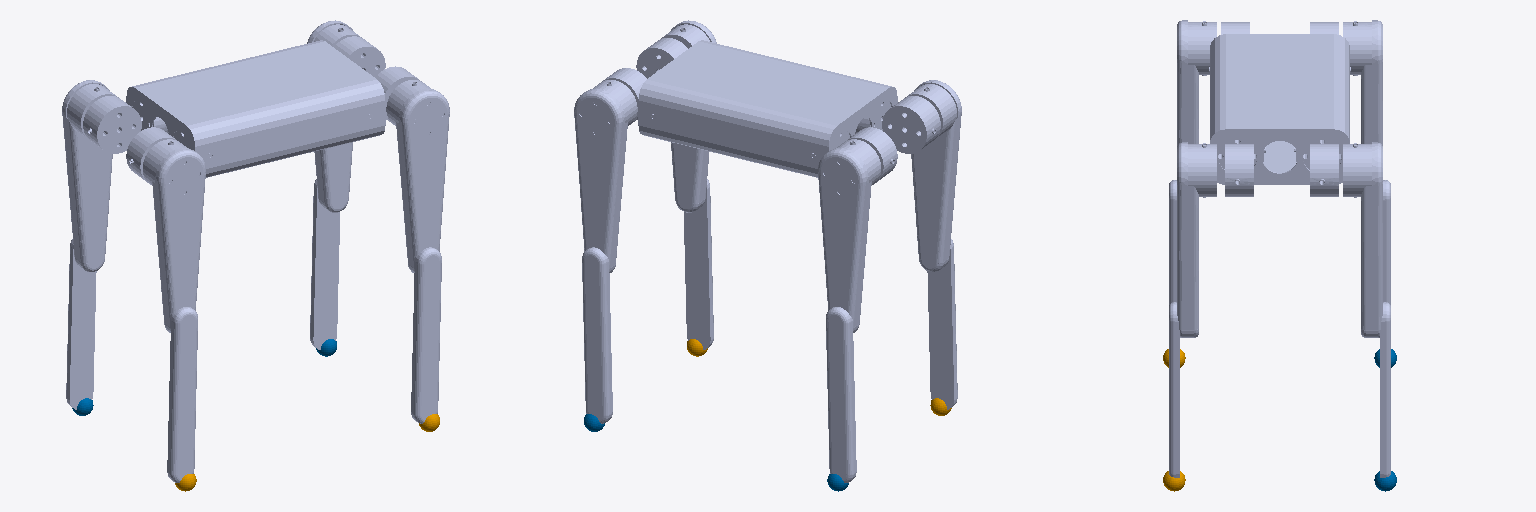
The robot description file, URDF, robot "stoch3_urdf":
<?xml version="1.0" encoding="utf-8"?>
<!-- This URDF was automatically created by SolidWorks to URDF Exporter! Originally created by [author] ([email redacted]) 
     Commit Version: 1.5.1-0-g916b5db  Build Version: 1.5.7152.31018
     For more information, please see http://wiki.ros.org/sw_urdf_exporter -->
<robot
  name="stoch3_urdf">
  <link
    name="base_link">
    <inertial>
      <origin
        xyz="0 0 0"
        rpy="0 0 0" />
      <mass
        value="3.95" />
      <inertia
        ixx="0.0082534"
        ixy="0"
        ixz="0"
        iyy="0.01565"
        iyz="0"
        izz="0.020188" />
    </inertial>
    <visual>
      <origin
        xyz="0 0 0"
        rpy="0 0 0" />
      <geometry>
        <mesh
          filename="../meshes/base_link.STL" />
      </geometry>
      <material
        name="">
        <color
          rgba="0.79216 0.81961 0.93333 1" />
      </material>
    </visual>
    <collision>
      <origin
        xyz="0 0 0"
        rpy="0 0 0" />
      <geometry>
         <box size="0.4 0.21 0.1"/>
      </geometry>
    </collision>
  </link>
  <link
    name="FLA_link">
    <inertial>
      <origin
        xyz="0.38527 0.0017672 0"
        rpy="0 0 0" />
      <mass
        value="1.742" />
      <inertia
        ixx="0.00063635"
        ixy="0"
        ixz="0"
        iyy="0.0018117"
        iyz="0"
        izz="0.0016957" />
    </inertial>
    <visual>
      <origin
        xyz="0 0 0"
        rpy="0 0 0" />
      <geometry>
        <mesh
          filename="../meshes/FLA_link.STL" />
      </geometry>
      <material
        name="">
        <color
          rgba="0.79216 0.81961 0.93333 1" />
      </material>
    </visual>
    <collision>
      <origin
        xyz="0.425 0.025 0"
        rpy="1.532 0 0" />
      <geometry>
        <cylinder length="0.1" radius="0.044"/>      
      </geometry>
    </collision>
  </link>
  <joint
    name="FLA_joint"
    type="revolute">
    <origin
      xyz="-0.1715 0.075 0"
      rpy="0 0 0" />
    <parent
      link="base_link" />
    <child
      link="FLA_link" />
    <axis
      xyz="1 0 0" />
    <limit
      lower="0"
      upper="0"
      effort="0"
      velocity="0" />
  </joint>
  <link
    name="FLH_link">
    <inertial>
      <origin
        xyz="-0.026428 0.0081065 -0.031643"
        rpy="0 0 0" />
      <mass
        value="0.125" /> <!-- IT IS ACTUALLY 1.561-->
      <inertia
        ixx="0.0023398"
        ixy="0.00021328"
        ixz="-0.001565"
        iyy="0.0037523"
        iyz="0.00025536"
        izz="0.001773" />
    </inertial>
    <visual>
      <origin
        xyz="0 0 0"
        rpy="0 -0.7 0" />
      <geometry>
        <mesh
          filename="../meshes/FLH_link.STL" />
      </geometry>
      <material
        name="">
        <color
          rgba="0.79216 0.81961 0.93333 1" />
      </material>
    </visual>
    <collision>
      <origin
        xyz="0.0 0.04 -0.125"
        rpy="0 0 0" />
      <geometry>
        <capsule length="0.27" radius="0.03"/>
      </geometry>
    </collision>
  </link>
  <joint
    name="FLH_joint"
    type="continuous">
    <origin
      xyz="0.4275 0.0625 0"
      rpy="0 0 0" />
    <parent
      link="FLA_link" />
    <child
      link="FLH_link" />
    <axis
      xyz="0 -1 0" />
  </joint>
  <link
    name="FLK_link">
    <inertial>
      <origin
        xyz="0.093564 -0.0003826 -0.11724"
        rpy="0 0 0" />
      <mass
        value="0.125" />
      <inertia
        ixx="0.0019186"
        ixy="0"
        ixz="0.0014742"
        iyy="0.0031459"
        iyz="0"
        izz="0.0012478" />
    </inertial>
    <visual>
      <origin
        xyz="0. 0 -0."
        rpy="0 0.7 0" />
      <geometry>
        <mesh
          filename="../meshes/FLK_link.STL" />
      </geometry>
      <material
        name="">
        <color
          rgba="0.79216 0.81961 0.93333 1" />
      </material>
    </visual>
    <collision>
      <origin
        xyz="0. 0. -0.165"
        rpy="0 0 0" />
      <geometry>
        <capsule length="0.27" radius="0.03"/>
      </geometry>
    </collision>
  </link>
  <joint
    name="FLK_joint"
    type="continuous">
    <origin
      xyz="-0. 0.05 -0.285"
      rpy="0 0 0" />
    <parent
      link="FLH_link" />
    <child
      link="FLK_link" />
    <axis
      xyz="0 -1 0" />
  </joint>
  <link name="FLF_link">
    <visual>
        <origin xyz="0.0 0.0 0.0"/>
        <geometry>
            <sphere radius="0.02"/>
        </geometry>
    </visual>
    <collision>
        <origin xyz="0. 0.0 0.0"/>
        <geometry>
            <sphere radius="0.0"/>
        </geometry>
    </collision>
  </link>
  <joint name="FLF_joint" type="fixed">
        <parent link="FLK_link"/>
        <child link="FLF_link"/>
        <origin rpy="0.0 0.0 0.0" xyz="0.0 0.0 -0.32125"/>
  </joint>
   <link
    name="FRA_link">
    <inertial>
      <origin
        xyz="0.042267 -0.0017671 0.0"
        rpy="0 0 0" />
      <mass
        value="1.742" />
      <inertia
        ixx="0.00063635"
        ixy="0"
        ixz="0"
        iyy="0.0018117"
        iyz="0"
        izz="0.0016957" />
    </inertial>
    <visual>
      <origin
        xyz="0 0.0 0"
        rpy="0 0 0" />
      <geometry>
        <mesh
          filename="../meshes/FLA_link.STL" />
      </geometry>
      <material
        name="">
        <color
          rgba="0.79216 0.81961 0.93333 1" />
      </material>
    </visual>
    <collision>
      <origin
        xyz="0.425 -0.025 0"
        rpy="1.532 0 0" />
      <geometry>
        <cylinder length="0.1" radius="0.044"/>      
      </geometry>
    </collision>
  </link>
  <joint
    name="FRA_joint"
    type="revolute">
    <origin
      xyz="-0.1715 -0.075 0"
      rpy="0 0 0" />
    <parent
      link="base_link" />
    <child
      link="FRA_link" />
    <axis
      xyz="-1 0 0" />
    <limit
      lower="0"
      upper="0"
      effort="0"
      velocity="0" />
  </joint>
  <link
    name="FRH_link">
    <inertial>
      <origin
        xyz="-0.026429 -0.0081065 -0.031643"
        rpy="0 0 0" />
      <mass
        value="0.125" /><!-- IT IS ACTUALLY 1.561-->
      <inertia
        ixx="0.0023397"
        ixy="-0.00021327"
        ixz="-0.001565"
        iyy="0.0037523"
        iyz="-0.00025536"
        izz="0.0017731" />
    </inertial>
    <visual>
      <origin
        xyz="0 0 0"
        rpy="0 -0.7 0" />
      <geometry>
        <mesh
          filename="../meshes/FRH_link.STL" />
      </geometry>
      <material
        name="">
        <color
          rgba="0.79216 0.81961 0.93333 1" />
      </material>
    </visual>
    <collision>
      <origin
        xyz="0.0 -0.04 -0.125"
        rpy="0 0 0" />
      <geometry>
        <capsule length="0.27" radius="0.03"/>
      </geometry>
    </collision>
  </link>
  <joint
    name="FRH_joint"
    type="continuous">
    <origin
      xyz="0.4275 -0.0625 0"
      rpy="0 0 0" />
    <parent
      link="FRA_link" />
    <child
      link="FRH_link" />
    <axis
      xyz="0 -1 0" />
  </joint>
  <link
    name="FRK_link">
    <inertial>
      <origin
        xyz="0.093565 0.0003826 -0.11724"
        rpy="0 0 0" />
      <mass
        value="0.125" />
      <inertia
        ixx="0.0019186"
        ixy="0"
        ixz="0.0014742"
        iyy="0.0031459"
        iyz="0"
        izz="0.0012478" />
    </inertial>
    <visual>
      <origin
        xyz="0 0 0"
        rpy="0 0.7 0" />
      <geometry>
        <mesh
          filename="../meshes/FRK_link.STL" />
      </geometry>
      <material
        name="">
        <color
          rgba="0.79216 0.81961 0.93333 1" />
      </material>
    </visual>
    <collision>
      <origin
        xyz="0. 0. -0.165"
        rpy="0 0 0" />
      <geometry>
        <capsule length="0.27" radius="0.03"/>
      </geometry>
    </collision>
  </link>
  <joint
    name="FRK_joint"
    type="continuous">
    <origin
      xyz="-0. -0.05 -0.285"
      rpy="0 0 0" />
    <parent
      link="FRH_link" />
    <child
      link="FRK_link" />
    <axis
      xyz="0 -1 0" />
  </joint>
  <link name="FRF_link">
    <visual>
        <origin xyz="0.0 0.0 0.0"/>
        <geometry>
            <sphere radius="0.02"/>
        </geometry>
    </visual>
  </link>
  <joint name="FRF_joint" type="fixed">
        <parent link="FRK_link"/>
        <child link="FRF_link"/>
        <origin rpy="0.0 0.0 0.0" xyz="0.0 0.0 -0.32125"/>
  </joint>
  <link
    name="BLA_link">
    <inertial>
      <origin
        xyz="-0.042267 0.0017671 0"
        rpy="0 0 0" />
      <mass
        value="1.742" />
      <inertia
        ixx="0.00063635"
        ixy="0"
        ixz="0"
        iyy="0.0018117"
        iyz="0"
        izz="0.0016957" />
    </inertial>
    <visual>
      <origin
        xyz="0 0 0"
        rpy="0 0 0" />
      <geometry>
        <mesh
          filename="../meshes/BLA_link.STL" />
      </geometry>
      <material
        name="">
        <color
          rgba="0.79216 0.81961 0.93333 1" />
      </material>
    </visual>
    <collision>
      <origin
        xyz="-0.085 0.025 0"
        rpy="1.532 0 0" />
      <geometry>
        <cylinder length="0.1" radius="0.044"/>      
      </geometry>
    </collision>
  </link>
  <joint
    name="BLA_joint"
    type="revolute">
    <origin
      xyz="-0.1715 0.075 0"
      rpy="0 0 0" />
    <parent
      link="base_link" />
    <child
      link="BLA_link" />
    <axis
      xyz="1 0 0" />
    <limit
      lower="0"
      upper="0"
      effort="0"
      velocity="0" />
  </joint>

  <link
    name="BLH_link">
    <inertial>
      <origin
        xyz="-0.026428 0.0081065 -0.031643"
        rpy="0 0 0" />
      <mass
        value="0.125" /><!-- IT IS ACTUALLY 1.561-->
      <inertia
        ixx="0.0023398"
        ixy="0.00021328"
        ixz="-0.001565"
        iyy="0.0037523"
        iyz="0.00025536"
        izz="0.001773" />
    </inertial>
    <visual>
      <origin
        xyz="0 0 0"
        rpy="0 -0.7 0" />
      <geometry>
        <mesh
          filename="../meshes/BLH_link.STL" />
      </geometry>
      <material
        name="">
        <color
          rgba="0.79216 0.81961 0.93333 1" />
      </material>
    </visual>
   <collision>
      <origin
        xyz="0.0 0.04 -0.125"
        rpy="0 0 0" />
      <geometry>
        <capsule length="0.27" radius="0.03"/>
      </geometry>
    </collision>
  </link>
  <joint
    name="BLH_joint"
    type="continuous">
    <origin
      xyz="-0.0845 0.0625 0"
      rpy="0 0 0" />
    <parent
      link="BLA_link" />
    <child
      link="BLH_link" />
    <axis
      xyz="0 -1 0" />
  </joint>

  <link
    name="BLK_link">
    <inertial>
      <origin
        xyz="0.093564 -0.0003826 -0.11724"
        rpy="0 0 0" />
      <mass
        value="0.125" />
      <inertia
        ixx="0.0019186"
        ixy="0.0"
        ixz="0.0014742"
        iyy="0.0031459"
        iyz="0.0"
        izz="0.0012478" />
    </inertial>
    <visual>
      <origin
        xyz="0 0 0"
        rpy="0 0.7 0" />
      <geometry>
        <mesh
          filename="../meshes/BLK_link.STL" />
      </geometry>
      <material
        name="">
        <color
          rgba="0.79216 0.81961 0.93333 1" />
      </material>
    </visual>
    <collision>
      <origin
        xyz="0. 0. -0.165"
        rpy="0 0 0" />
      <geometry>
        <capsule length="0.27" radius="0.03"/>
      </geometry>
    </collision>
  </link>
  <joint
    name="BLK_joint"
    type="continuous">
    <origin
      xyz="-0. 0.05 -0.285"
      rpy="0 0 0" />
    <parent
      link="BLH_link" />
    <child
      link="BLK_link" />
    <axis
      xyz="0 -1 0" />
  </joint>
  <link name="BLF_link">
    <visual>
        <origin xyz="0.0 0.0 0.0"/>
        <geometry>
            <sphere radius="0.02"/>
        </geometry>
    </visual>
    <collision>
        <origin xyz="0. 0.0 0.0"/>
        <geometry>
            <sphere radius="0.0"/>
        </geometry>
    </collision>
  </link>
  <joint name="BLF_joint" type="fixed">
        <parent link="BLK_link"/>
        <child link="BLF_link"/>
        <origin rpy="0.0 0.0 0.0" xyz="0.0 0.0 -0.32125"/>
  </joint>
  <link
    name="BRA_link">
    <inertial>
      <origin
        xyz="-0.042267 -0.0017672 0.0"
        rpy="0 0 0" />
      <mass
        value="1.742" />
      <inertia
        ixx="0.00063635"
        ixy="0.0"
        ixz="0.0"
        iyy="0.0018117"
        iyz="0.0"
        izz="0.0016957" />
    </inertial>
    <visual>
      <origin
        xyz="0 0 0"
        rpy="0 0 0" />
      <geometry>
        <mesh
          filename="../meshes/BRA_link.STL" />
      </geometry>
      <material
        name="">
        <color
          rgba="0.79216 0.81961 0.93333 1" />
      </material>
    </visual>
    <collision>
      <origin
        xyz="-0.085 -0.025 0"
        rpy="1.532 0 0" />
      <geometry>
        <cylinder length="0.1" radius="0.044"/>      
      </geometry>
    </collision>
  </link>
  <joint
    name="BRA_joint"
    type="revolute">
    <origin
      xyz="-0.1715 -0.075 0"
      rpy="0 0 0" />
    <parent
      link="base_link" />
    <child
      link="BRA_link" />
    <axis
      xyz="-1 0 0" />
    <limit
      lower="0"
      upper="0"
      effort="0"
      velocity="0" />
  </joint>
  <link
    name="BRH_link">
    <inertial>
      <origin
        xyz="-0.026429 -0.0081065 -0.031643"
        rpy="0 0 0" />
      <mass
        value="0.125" /><!-- IT IS ACTUALLY 1.561-->
      <inertia
        ixx="0.0023397"
        ixy="-0.00021327"
        ixz="-0.001565"
        iyy="0.0037523"
        iyz="-0.00025536"
        izz="0.0017731" />
    </inertial>
    <visual>
      <origin
        xyz="0 0 0"
        rpy="0 -0.7 0" />
      <geometry>
        <mesh
          filename="../meshes/BRH_link.STL" />
      </geometry>
      <material
        name="">
        <color
          rgba="0.79216 0.81961 0.93333 1" />
      </material>
    </visual>
    <collision>
      <origin
        xyz="0.0 -0.04 -0.125"
        rpy="0 0 0" />
      <geometry>
        <capsule length="0.27" radius="0.03"/>
      </geometry>
    </collision>
  </link>
  <joint
    name="BRH_joint"
    type="continuous">
    <origin
      xyz="-0.0845 -0.0625 0"
      rpy="0 0 0" />
    <parent
      link="BRA_link" />
    <child
      link="BRH_link" />
    <axis
      xyz="0 -1 0" />
  </joint>
  <link
    name="BRK_link">
    <inertial>
      <origin
        xyz="0.093565 0.0003826 -0.11724"
        rpy="0 0 0" />
      <mass
        value="0.125" />
      <inertia
        ixx="0.0019186"
        ixy="0.0"
        ixz="0.0014742"
        iyy="0.0031459"
        iyz="0.0"
        izz="0.0012478" />
    </inertial>
    <visual>
      <origin
        xyz="0 0 0"
        rpy="0 0.7 0" />
      <geometry>
        <mesh
          filename="../meshes/BRK_link.STL" />
      </geometry>
      <material
        name="">
        <color
          rgba="0.79216 0.81961 0.93333 1" />
      </material>
    </visual>
    <collision>
      <origin
        xyz="0. 0. -0.165"
        rpy="0 0 0" />
      <geometry>
        <capsule length="0.27" radius="0.03"/>
      </geometry>
    </collision>
  </link>
  <joint
    name="BRK_joint"
    type="continuous">
    <origin
      xyz="-0. -0.05 -0.285"
      rpy="0 0 0" />
    <parent
      link="BRH_link" />
    <child
      link="BRK_link" />
    <axis
      xyz="0 -1 0" />
  </joint>
  <link name="BRF_link">
    <visual>
        <origin xyz="0.0 0.0 0.0"/>
        <geometry>
            <sphere radius="0.02"/>
        </geometry>
    </visual>
    <collision>
        <origin xyz="0. 0.0 0.0"/>
        <geometry>
            <sphere radius="0.0"/>
        </geometry>
    </collision>
  </link>
  <joint name="BRF_joint" type="fixed">
        <parent link="BRK_link"/>
        <child link="BRF_link"/>
        <origin rpy="0.0 0.0 0.0" xyz="0.0 0.0 -0.32125"/>
  </joint>
</robot>

--- Facts derived from the render (not from the file) ---
Views: 3 orthographic renders of the robot side by side, from view 1: azimuth 30°, elevation 25°; view 2: azimuth 150°, elevation 25°; view 3: azimuth 270°, elevation 25°.
Robot: stoch3_urdf — 17 links, 16 joints (4 revolute, 8 continuous, 4 fixed); root link base_link; default pose: every joint at zero.
Visible links, largest first — view 1: base_link, FRH_link, BRH_link, BLH_link, BRK_link, FRK_link, FLK_link, BLK_link, FLH_link, BLA_link, BRA_link, FLA_link (+1 smaller); view 2: base_link, FLH_link, BLH_link, BRH_link, BLK_link, FLK_link, FRK_link, BRK_link, FRH_link, BRA_link, BLA_link, FRA_link (+1 smaller); view 3: base_link, FLH_link, FRH_link, BRH_link, BLH_link, FLK_link, FRK_link, FLA_link, FRA_link, BLK_link, BRK_link.
Boxes of the visible links, x1=… form: base_link: x1=126, y1=40, x2=385, y2=177; FRH_link: x1=386, y1=80, x2=449, y2=272; BRH_link: x1=143, y1=139, x2=205, y2=332; BLH_link: x1=62, y1=80, x2=118, y2=271; BRK_link: x1=167, y1=307, x2=197, y2=482; FRK_link: x1=411, y1=247, x2=441, y2=423; FLK_link: x1=310, y1=179, x2=339, y2=349; BLK_link: x1=66, y1=239, x2=96, y2=409; FLH_link: x1=307, y1=20, x2=361, y2=212; BLA_link: x1=83, y1=96, x2=168, y2=153; BRA_link: x1=126, y1=127, x2=212, y2=182; FLA_link: x1=334, y1=36, x2=385, y2=76; base_link: x1=638, y1=40, x2=897, y2=177; FLH_link: x1=574, y1=80, x2=637, y2=272; BLH_link: x1=818, y1=139, x2=880, y2=332; BRH_link: x1=905, y1=80, x2=961, y2=271; BLK_link: x1=826, y1=307, x2=856, y2=482; FLK_link: x1=582, y1=247, x2=612, y2=423; FRK_link: x1=684, y1=179, x2=713, y2=349; BRK_link: x1=927, y1=239, x2=957, y2=409; FRH_link: x1=661, y1=20, x2=716, y2=212; BRA_link: x1=855, y1=96, x2=940, y2=153; BLA_link: x1=811, y1=127, x2=897, y2=182; FRA_link: x1=636, y1=38, x2=687, y2=78; base_link: x1=1210, y1=34, x2=1349, y2=184; FLH_link: x1=1343, y1=142, x2=1382, y2=337; FRH_link: x1=1177, y1=142, x2=1216, y2=337; BRH_link: x1=1177, y1=20, x2=1216, y2=145; BLH_link: x1=1343, y1=20, x2=1382, y2=145; FLK_link: x1=1380, y1=302, x2=1390, y2=477; FRK_link: x1=1169, y1=302, x2=1179, y2=477; FLA_link: x1=1294, y1=140, x2=1341, y2=196; FRA_link: x1=1218, y1=140, x2=1265, y2=196; BLK_link: x1=1383, y1=180, x2=1390, y2=304; BRK_link: x1=1169, y1=180, x2=1176, y2=304.
Size in the robot's own frame: 0.614 by 0.415 by 0.6813 metres.
13 mesh visuals loaded from 12 distinct referenced files (12 binary STL).
